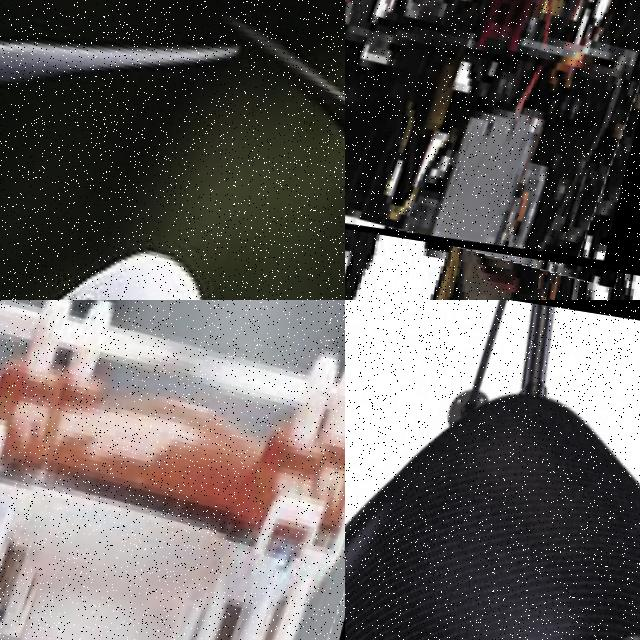drone: (0, 300, 345, 640), (0, 0, 345, 300), (345, 300, 640, 640), (345, 0, 640, 276)
